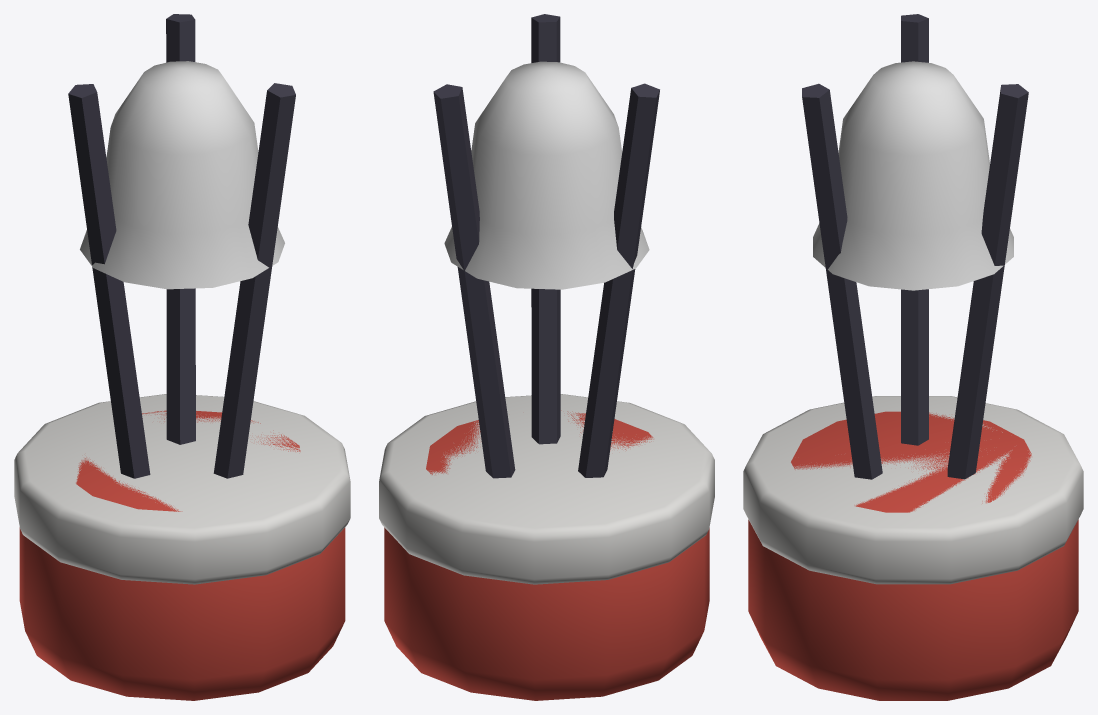
File: buoy.fbx
The picture shows the model from 3 angles, left to right: view 1: azimuth 30°, elevation 25°; view 2: azimuth 150°, elevation 25°; view 3: azimuth 270°, elevation 25°; orthographic projection.
Visible parts, largest first — view 1: buoy, Bell; view 2: buoy, Bell; view 3: buoy, Bell.
Boxes of the visible parts, x1,y1,x2,y2 form: buoy: [14, 14, 350, 700]; Bell: [80, 61, 284, 289]; buoy: [379, 14, 714, 700]; Bell: [444, 61, 649, 289]; buoy: [743, 14, 1083, 700]; Bell: [813, 61, 1013, 290].
Bounding box in the file's own units: 0.3217 × 0.6249 × 0.33.
